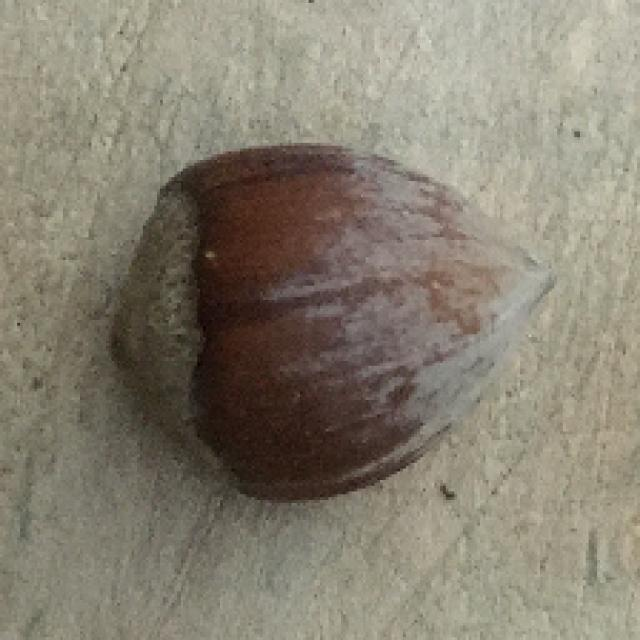qualityHazelnut: (105, 141, 560, 504)
